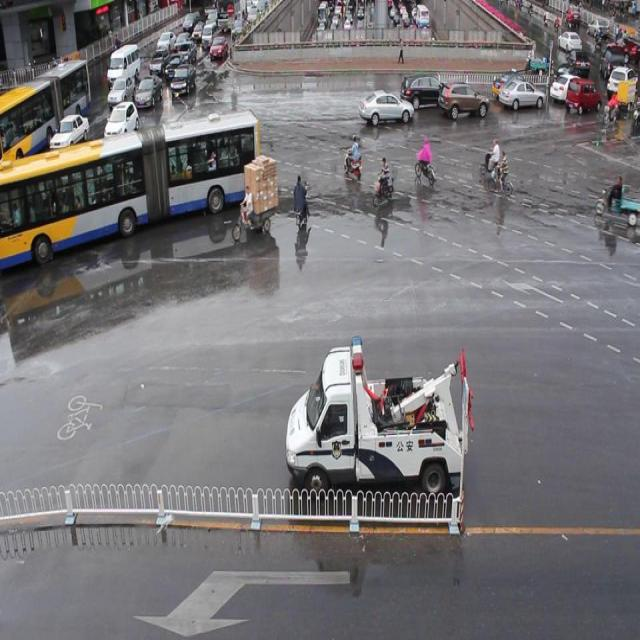bus: (285, 338, 464, 498)
car: (359, 88, 413, 126), (438, 81, 488, 118), (402, 75, 450, 109), (498, 79, 544, 111), (490, 73, 532, 98)
van: (1, 110, 257, 268)
